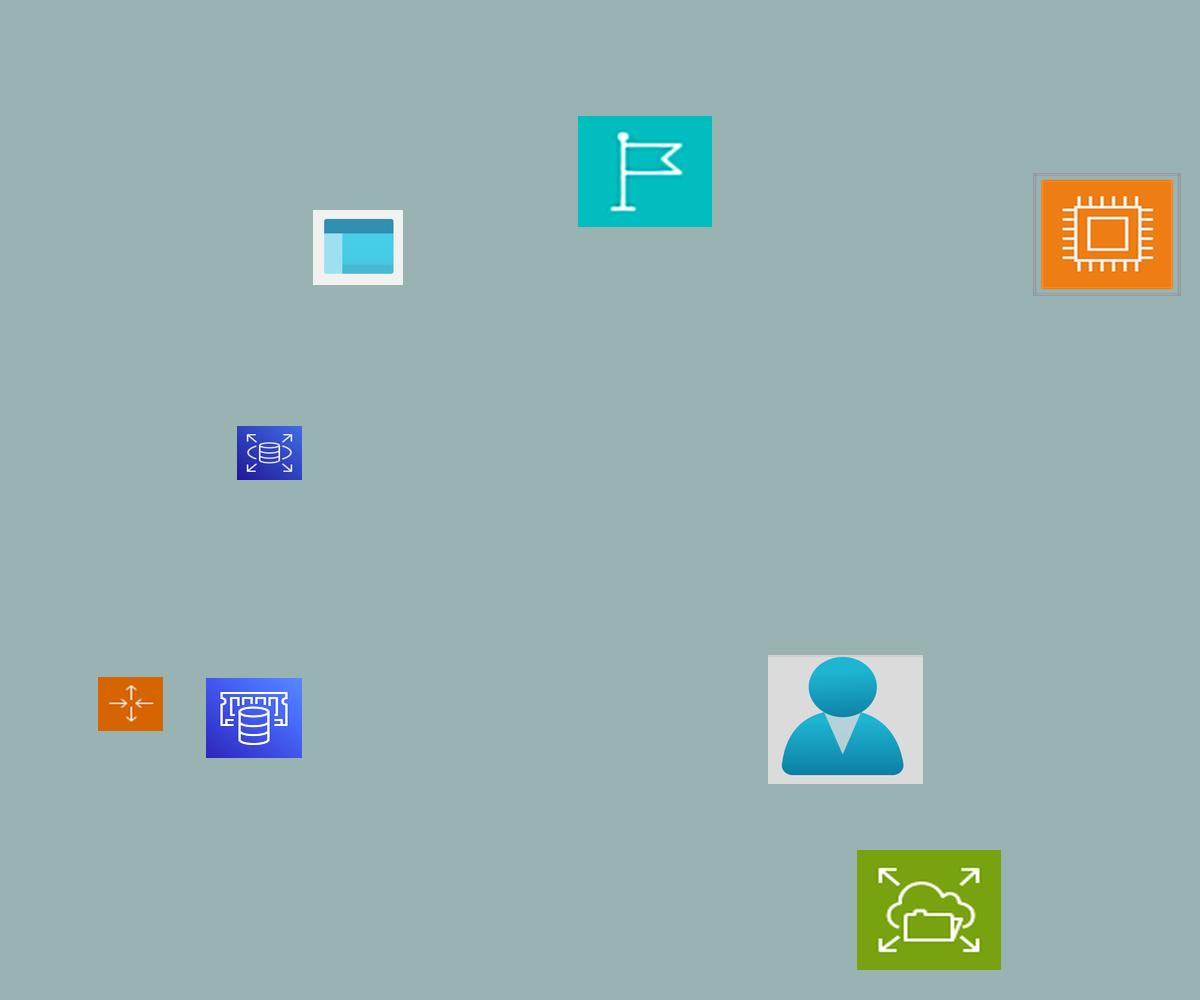AWS-Category_Compute: (1033, 173, 1181, 296)
AWS-EFS: (857, 850, 1001, 970)
AWS-ElastiCache: (206, 678, 302, 758)
AWS-RDS: (237, 426, 302, 480)
AWS-Region: (578, 116, 712, 227)
AWS-Scaling-group: (98, 677, 163, 731)
Azure_management-portal: (313, 210, 403, 285)
Azure_users: (768, 655, 923, 784)
